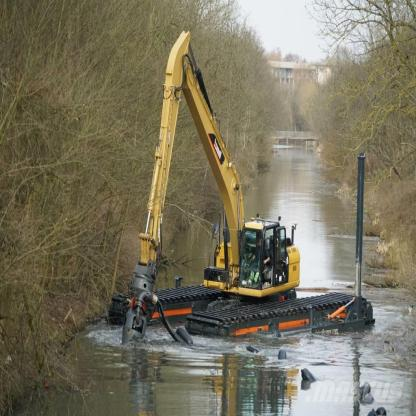excavator: (84, 20, 395, 368)
